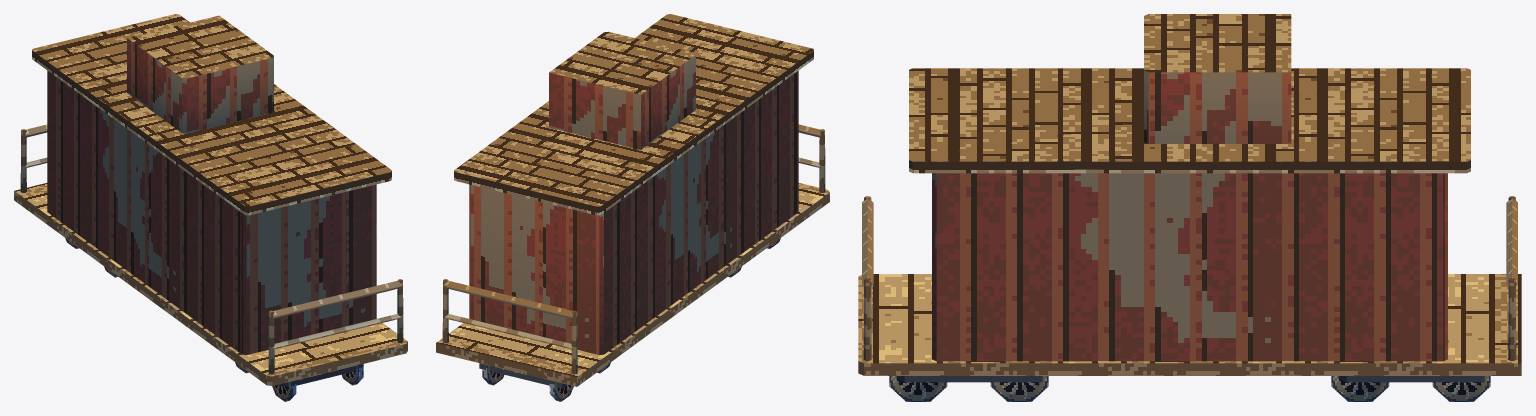
Rendered from wrail.car__caboose.glb.
3 renders of one model, left to right at view 1: azimuth 30°, elevation 25°; view 2: azimuth 150°, elevation 25°; view 3: azimuth 270°, elevation 25°, orthographic. The views are drawn at different scales.
Visible parts, largest first — view 1: kit_body, kit_roof, kit_cupola, kit_frame, kit_platforms, kit_wheels, kit_trucks; view 2: kit_body, kit_roof, kit_cupola, kit_frame, kit_platforms, kit_wheels, kit_trucks; view 3: kit_body, kit_roof, kit_frame, kit_cupola, kit_wheels, kit_platforms, kit_trucks.
Part boxes in pixels (x1,y1,x2,y2): kit_body: [47, 70, 376, 354]; kit_roof: [32, 14, 391, 215]; kit_cupola: [127, 15, 273, 133]; kit_frame: [14, 183, 407, 385]; kit_platforms: [20, 124, 403, 374]; kit_wheels: [65, 238, 363, 401]; kit_trucks: [279, 365, 356, 386]; kit_body: [469, 71, 798, 354]; kit_roof: [454, 14, 813, 215]; kit_cupola: [549, 31, 695, 149]; kit_frame: [436, 183, 829, 386]; kit_platforms: [442, 124, 825, 374]; kit_wheels: [482, 238, 780, 401]; kit_trucks: [479, 363, 567, 388]; kit_body: [932, 173, 1447, 361]; kit_roof: [909, 68, 1470, 173]; kit_frame: [858, 274, 1521, 375]; kit_cupola: [1144, 14, 1291, 143]; kit_wheels: [889, 376, 1490, 401]; kit_platforms: [862, 196, 1517, 360]; kit_trucks: [896, 376, 1484, 382].
Bounding box in the file's own units: 2.4 × 4.02 × 7.2.
9 materials, 9 textured.
